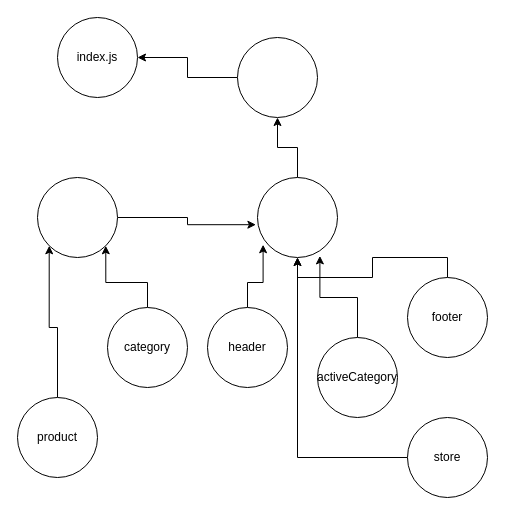
Some shapes in this 505 by 515 pixel diagram are drawn without their labels. The shapes that lost their labels are listed below. From the top down, each one's centre as x and y in pixels, then its label:
pixel 277 77: app.js
pixel 77 217: storeFront
pixel 297 217: components
